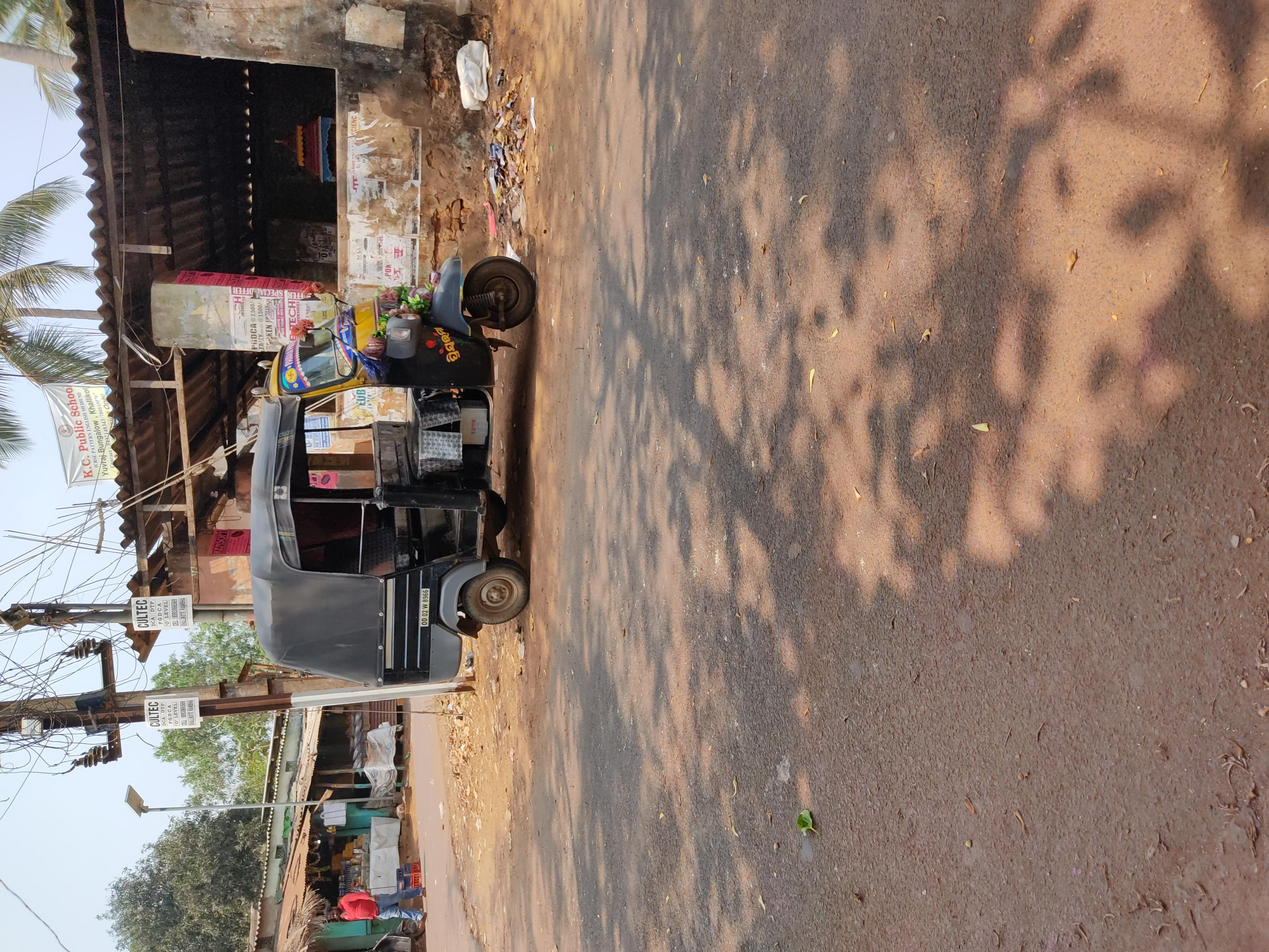Auto: (321, 179, 954, 435)
